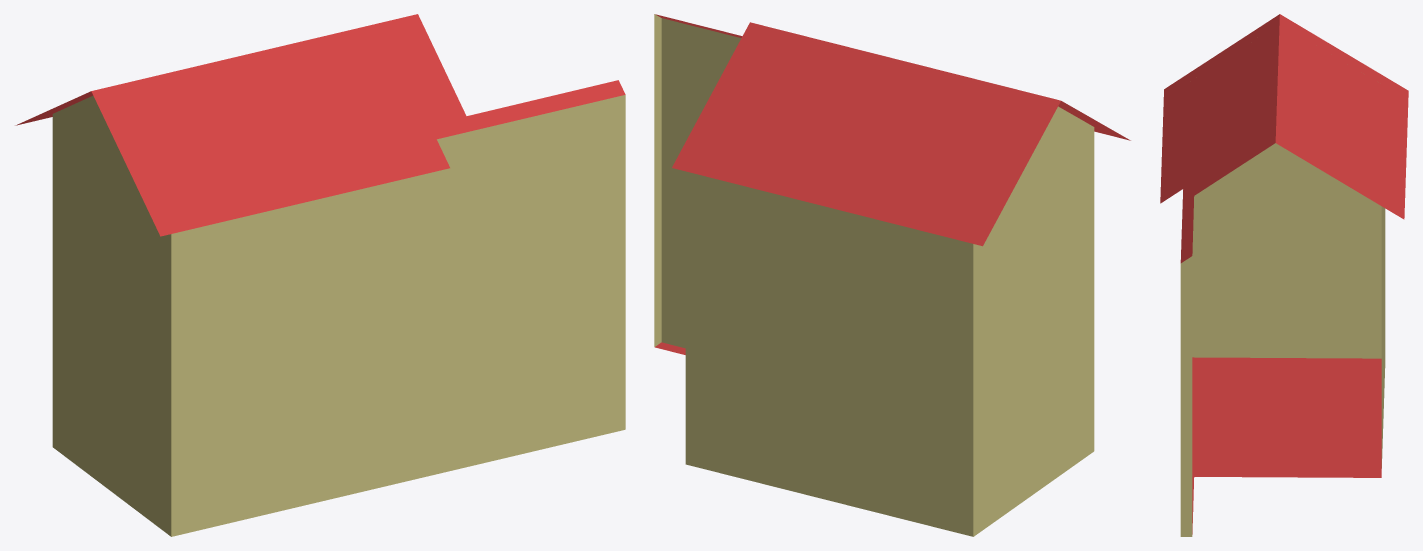
The picture shows the model from 3 angles, left to right: view 1: azimuth 30°, elevation 25°; view 2: azimuth 150°, elevation 25°; view 3: azimuth 270°, elevation 25°; orthographic projection. The views are drawn at different scales.
Size of the model in its own units: 9.78 by 5.42 by 8.05.
